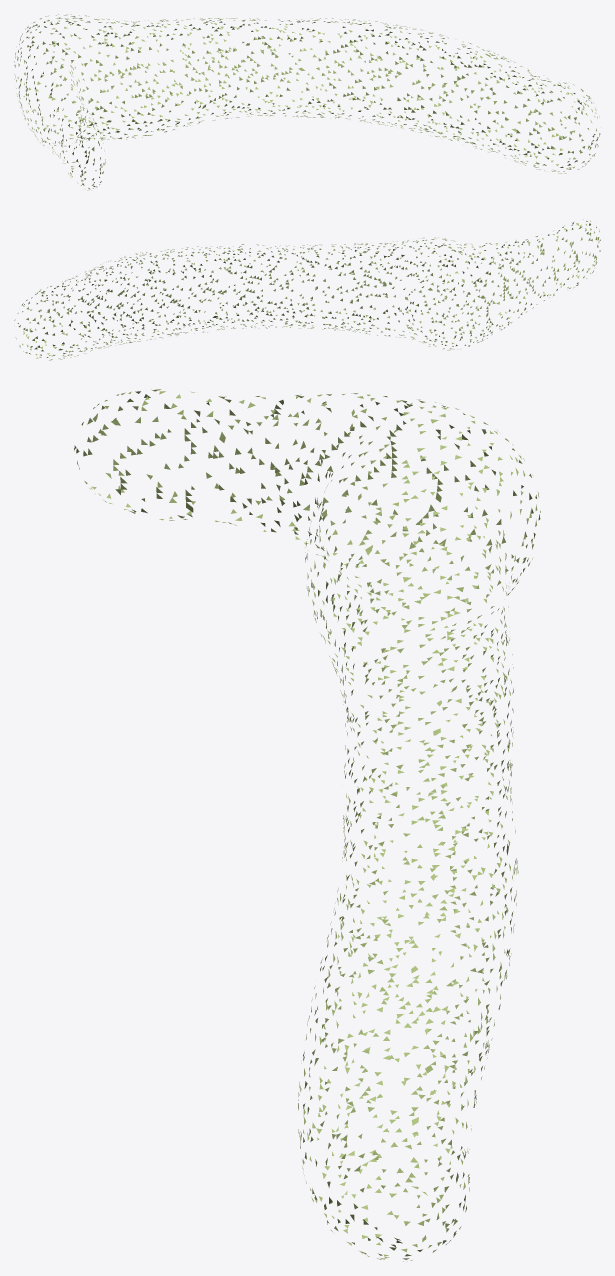
File: morph_011.glb
The picture shows the model from 3 angles, top to bottom: view 1: azimuth 30°, elevation 25°; view 2: azimuth 150°, elevation 25°; view 3: azimuth 270°, elevation 25°; orthographic projection. The views are drawn at different scales.
Bounding box in the file's own units: 120 × 49.63 × 48.14.
